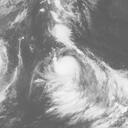cyclone: (44, 50, 97, 100)
